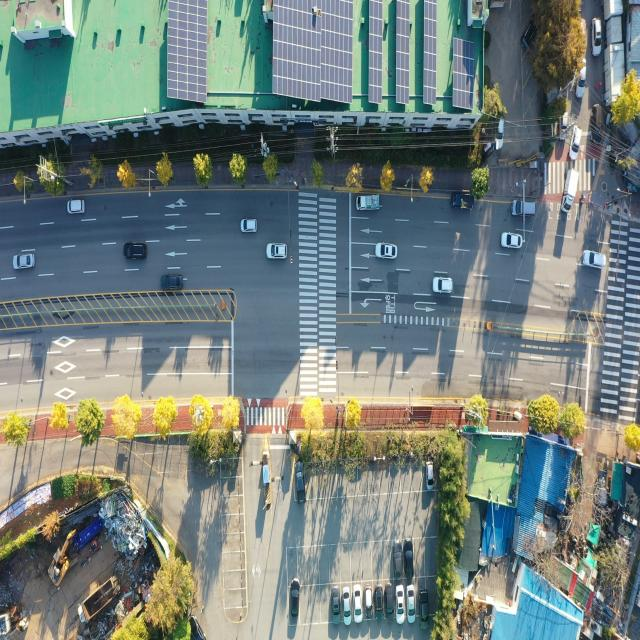car: (592, 103, 604, 145), (419, 588, 430, 630), (290, 578, 302, 616), (568, 125, 581, 160), (576, 58, 587, 98), (584, 250, 608, 268), (512, 200, 536, 218), (591, 19, 602, 57), (294, 463, 304, 503), (495, 118, 506, 154), (522, 21, 536, 48), (12, 253, 34, 269), (125, 243, 147, 259), (434, 277, 454, 294), (503, 234, 524, 250), (161, 276, 182, 292), (393, 543, 402, 579), (333, 591, 342, 626), (269, 243, 288, 259), (406, 539, 414, 577), (396, 586, 404, 623), (344, 588, 352, 624), (408, 586, 416, 622), (386, 585, 394, 621), (377, 244, 397, 258), (354, 586, 362, 621), (68, 200, 85, 216), (376, 585, 384, 617), (364, 586, 372, 616), (241, 218, 258, 232), (561, 114, 569, 143), (427, 462, 434, 492)
medium_truck: (76, 577, 120, 628)
small_truck: (561, 168, 579, 214), (450, 191, 474, 210), (355, 196, 380, 214)
